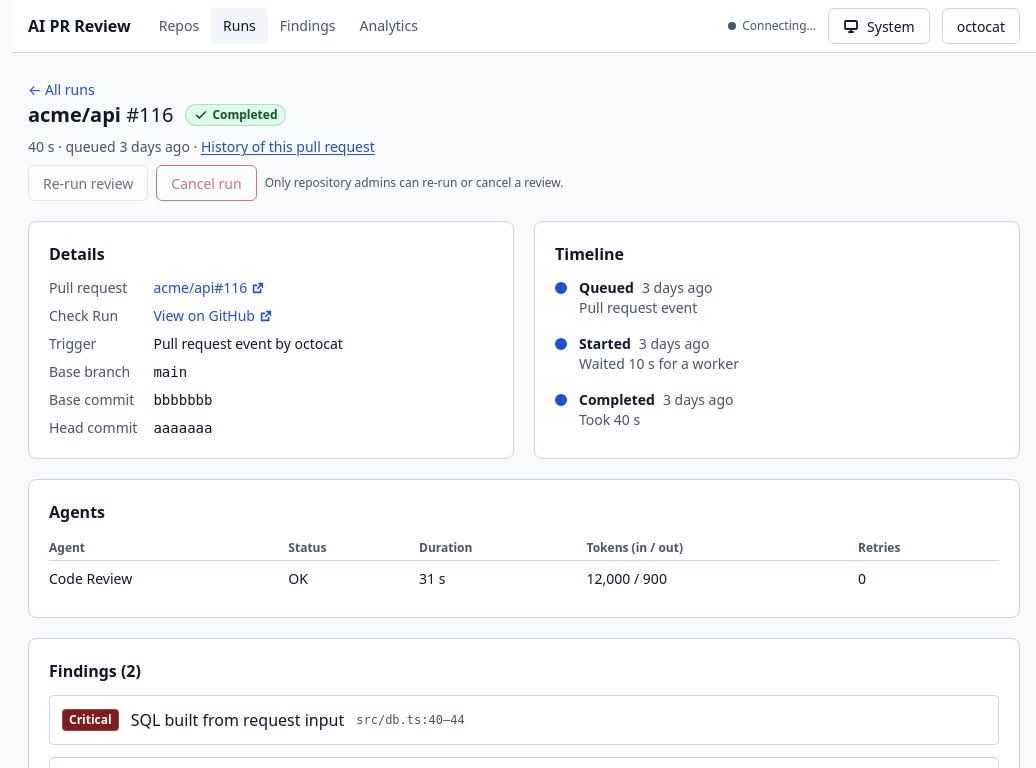
Test: Run detail content › lists findings with severity, location and, when opened, the evidence and advice
Expected: the text "Critical" is shown, [62,709,119,731]
Expected: the text "src/db.ts:40–44" is shown, [356,712,465,728]
Click the text "SQL built from request input" at point(237, 720), box [131,708,344,732]
(page scrolled)
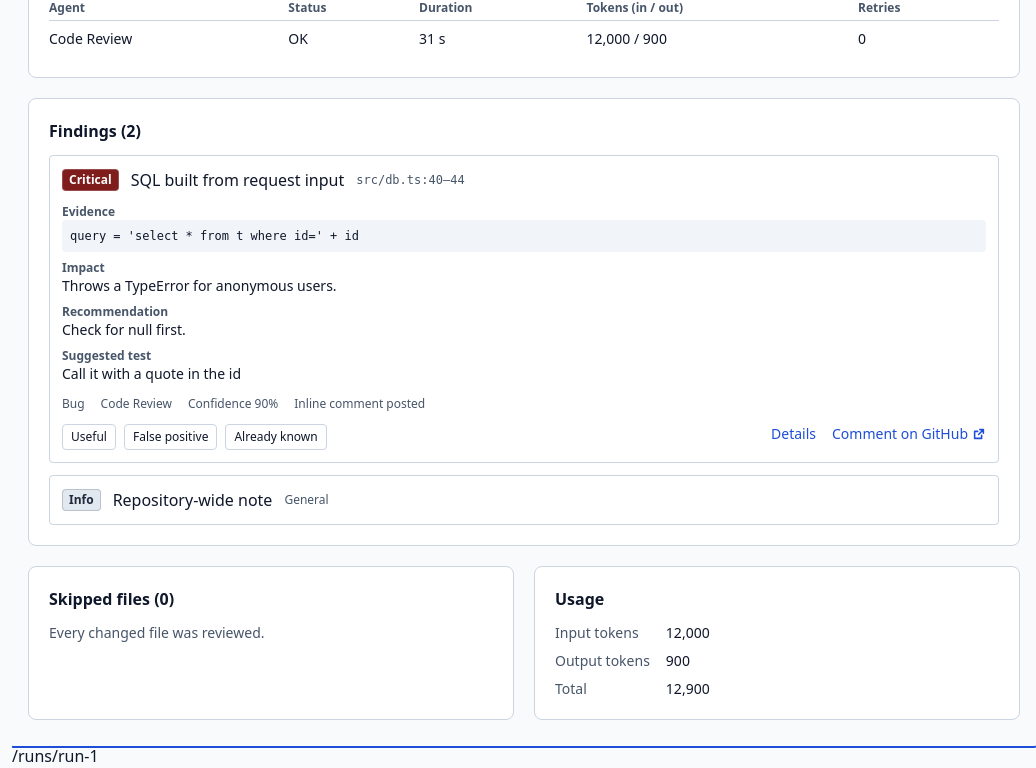
Expected: the text "query = 'select * from t where id=' + id" is shown, [62,220,986,252]
Expected: the text "Call it with a quote in the id" is shown, [62,364,241,383]
Expected: the text "Inline comment posted" is shown, [294,396,425,412]
